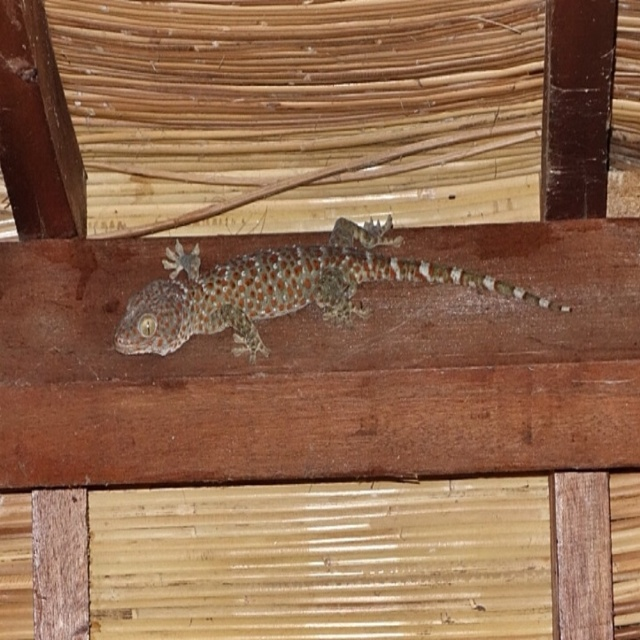Lizard: (112, 214, 573, 362)
